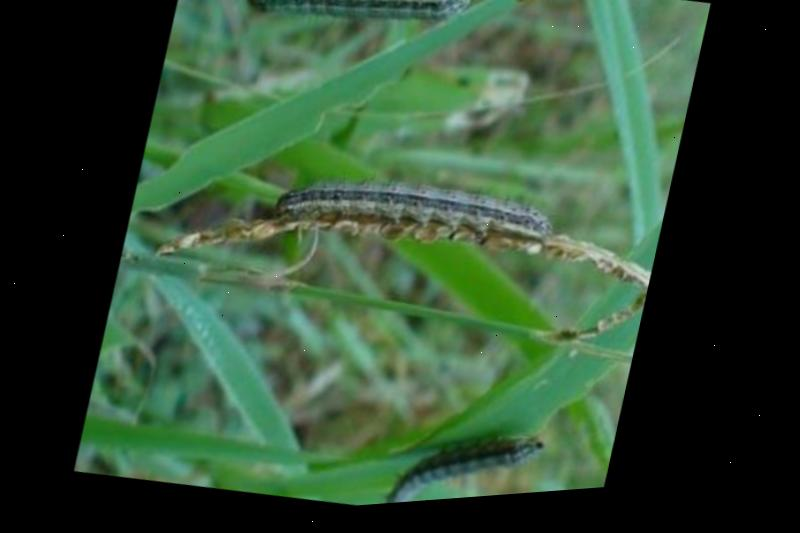fall-armyworm: (277, 182, 554, 242), (387, 442, 549, 511), (247, 1, 471, 27)
